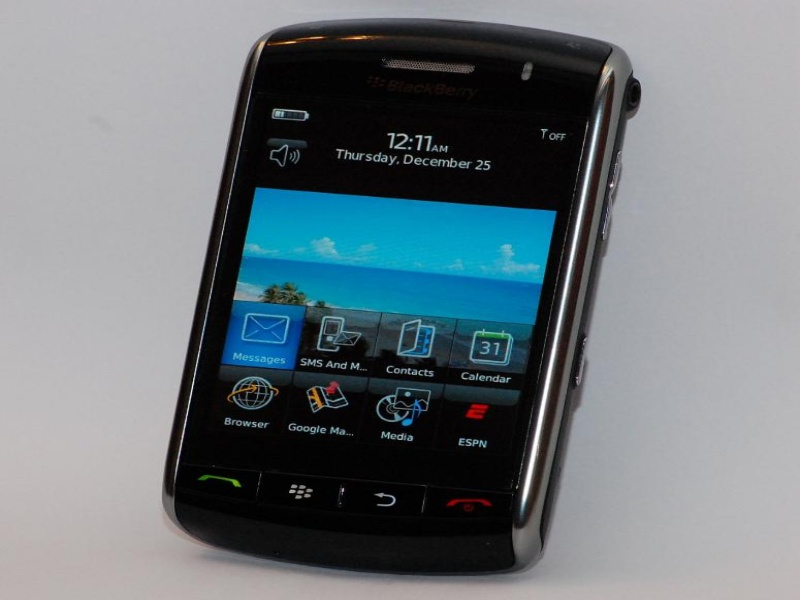cellphone: (152, 17, 649, 576)
